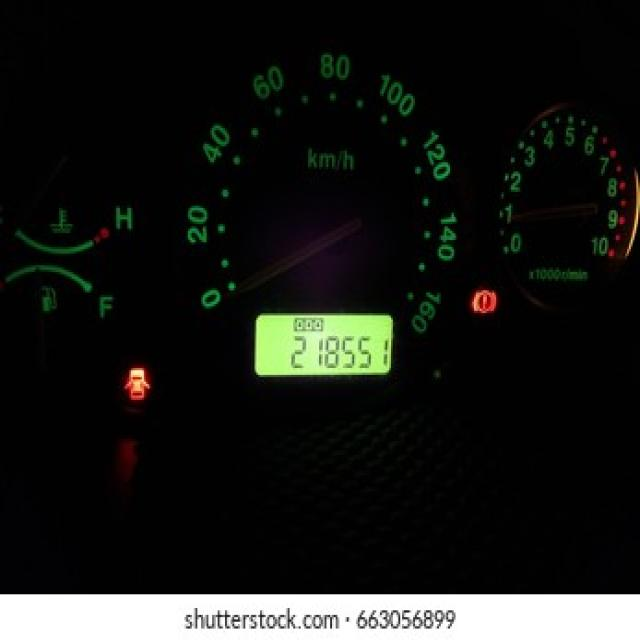Braking System Issue: (468, 284, 500, 316)
